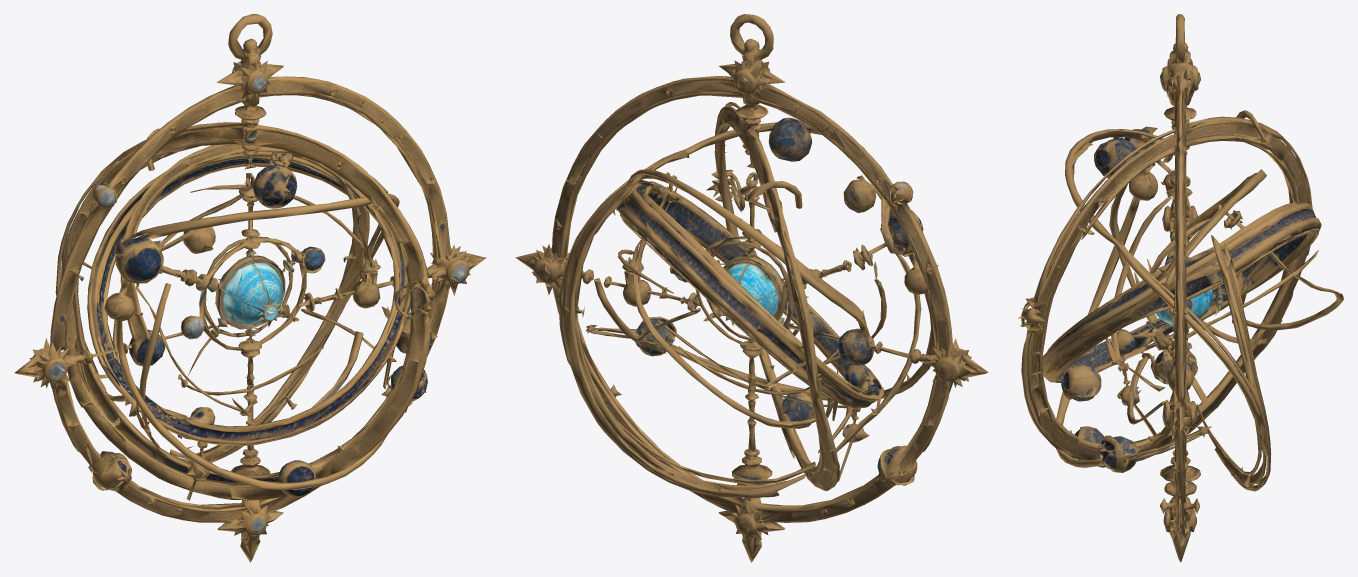
File: orrery-model-candidate-01.glb
3 renders of one model, left to right at view 1: azimuth 30°, elevation 25°; view 2: azimuth 150°, elevation 25°; view 3: azimuth 270°, elevation 25°, orthographic.
Parts seen in each view (by area): view 1: mesh_node; view 2: mesh_node; view 3: mesh_node.
Part boxes in pixels (x1,y1,x2,y2): mesh_node: (15,14,486,562); mesh_node: (515,14,988,562); mesh_node: (1017,14,1343,562).
Bounding box in the file's own units: 1.8 × 2 × 1.08.
1 material, 1 textured.
